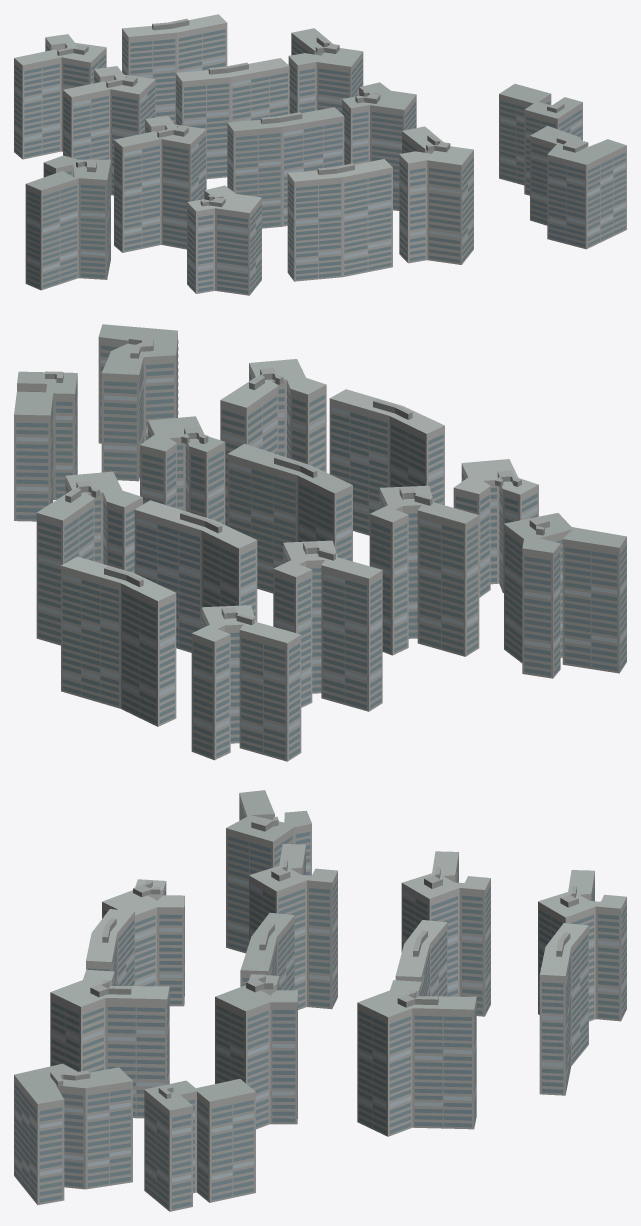
The model's file is apt-a10026834.glb.
3 views of the same model, one above another, from view 1: azimuth 30°, elevation 25°; view 2: azimuth 150°, elevation 25°; view 3: azimuth 270°, elevation 25° (orthographic). The views are drawn at different scales.
Visible parts, largest first — view 1: apt-a10026834; view 2: apt-a10026834; view 3: apt-a10026834.
Part boxes in pixels (x1,y1,x2,y2): apt-a10026834: [14, 14, 626, 295]; apt-a10026834: [14, 324, 626, 761]; apt-a10026834: [14, 790, 626, 1211].
Size of the model in its own units: 269 by 55 by 231.
